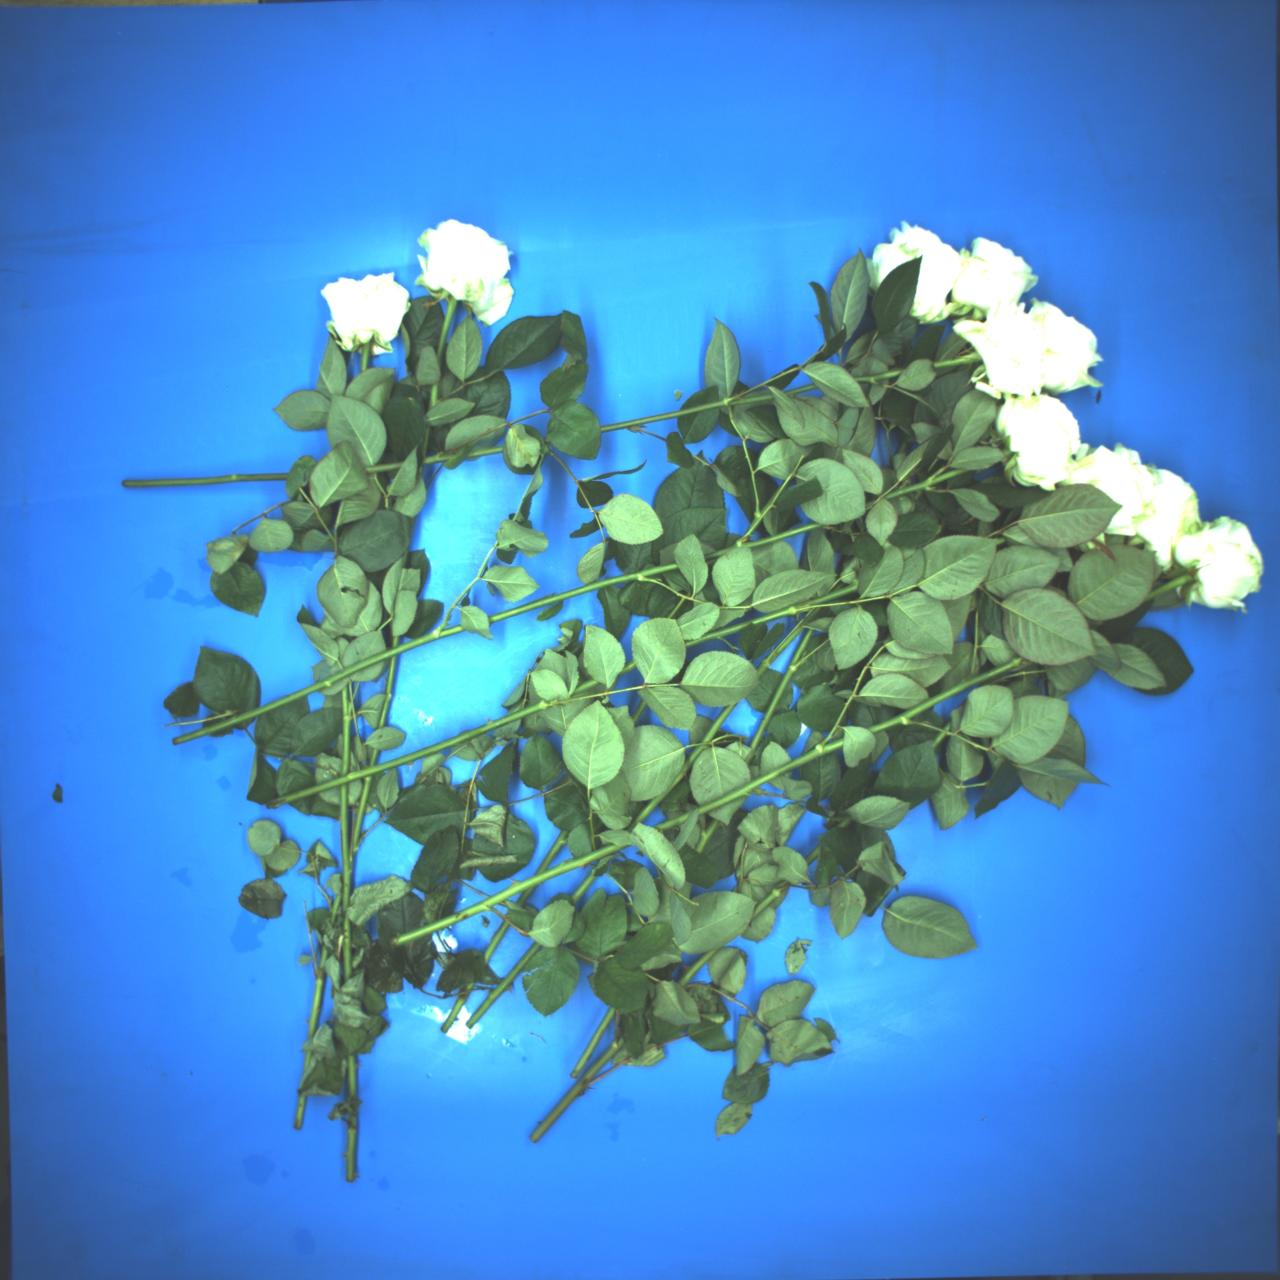Stem: (172, 620, 464, 749), (264, 700, 552, 810), (389, 833, 631, 953), (867, 653, 1023, 737), (686, 578, 859, 651), (489, 558, 679, 624), (696, 736, 845, 817), (526, 1034, 626, 1144), (748, 627, 813, 751), (624, 740, 709, 835), (599, 390, 772, 433), (464, 941, 543, 1029), (753, 602, 823, 678), (703, 520, 824, 561), (568, 1005, 618, 1081), (738, 478, 785, 546), (884, 465, 969, 501), (122, 471, 288, 489), (532, 829, 572, 880), (376, 654, 401, 729), (700, 699, 737, 747), (678, 944, 719, 987), (339, 783, 353, 908), (433, 298, 457, 369), (350, 774, 373, 850), (747, 880, 788, 919), (438, 987, 471, 1033), (1143, 572, 1193, 601), (481, 921, 509, 964), (567, 870, 599, 904), (853, 365, 904, 386), (654, 808, 695, 833), (308, 978, 325, 1040), (693, 817, 720, 853), (345, 1117, 359, 1182), (341, 687, 350, 776), (341, 915, 353, 981), (567, 676, 600, 697), (934, 353, 979, 368), (930, 724, 953, 750), (365, 459, 403, 474), (421, 452, 458, 465), (465, 445, 503, 458), (516, 883, 536, 906), (628, 700, 647, 724), (294, 1096, 307, 1131), (804, 843, 824, 865), (783, 383, 817, 396), (348, 1055, 358, 1097), (329, 896, 342, 924), (615, 660, 636, 676), (428, 383, 438, 413), (360, 341, 369, 373), (301, 1050, 312, 1075), (368, 749, 381, 768), (836, 817, 852, 831), (896, 440, 910, 456), (423, 427, 430, 456), (320, 948, 328, 967), (392, 635, 400, 648), (996, 536, 1007, 545), (420, 465, 424, 474)
flower: (397, 204, 537, 333), (952, 285, 1073, 414), (1056, 425, 1180, 547), (860, 210, 982, 332), (992, 383, 1095, 497), (1110, 462, 1216, 570), (938, 229, 1043, 332), (320, 271, 414, 359), (1177, 517, 1262, 608), (1041, 300, 1102, 394)
